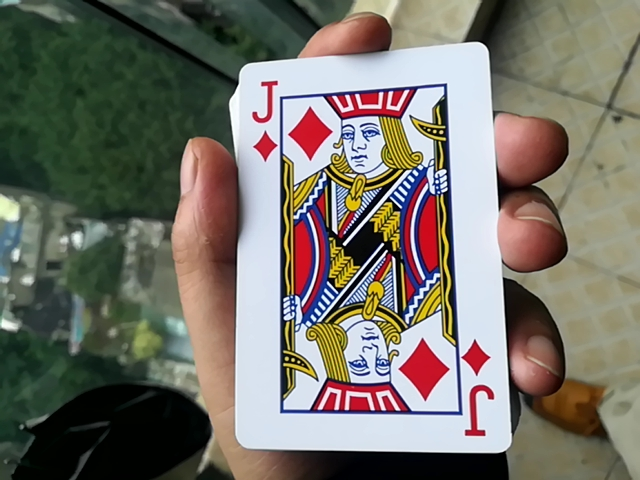fk j: (205, 52, 521, 453)
